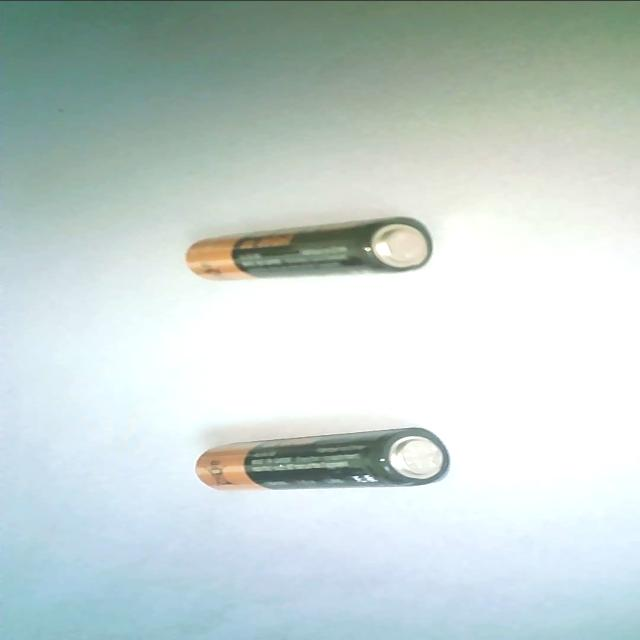AA: (192, 426, 450, 491), (183, 215, 432, 281)
